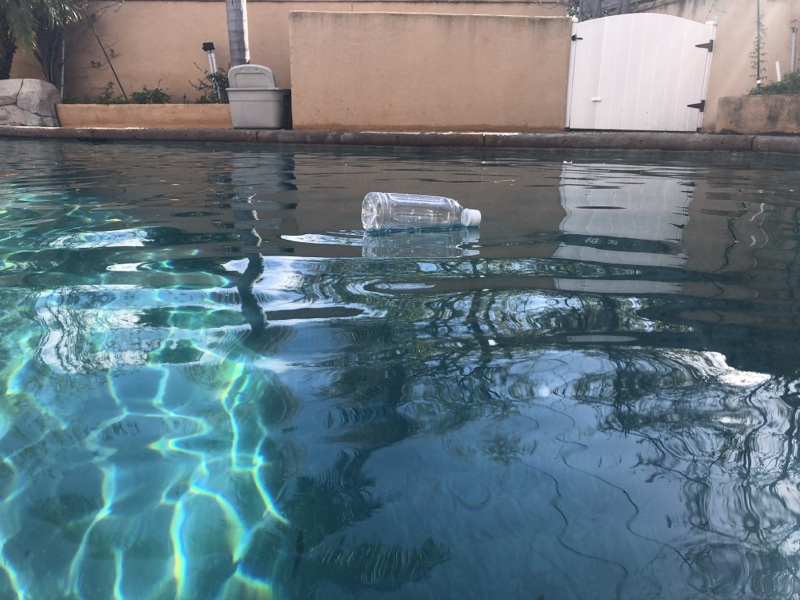Plastic Bottle: (356, 189, 481, 237)
